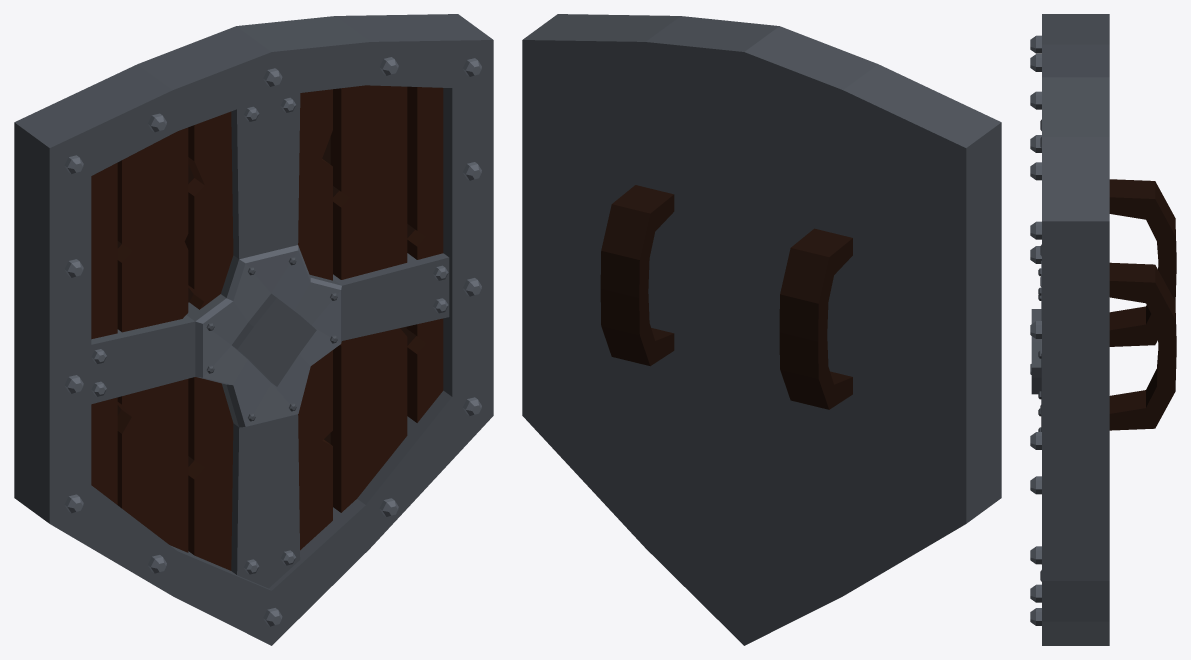
File: Shield_Heater.obj
The picture shows the model from 3 angles, left to right: view 1: azimuth 30°, elevation 25°; view 2: azimuth 150°, elevation 25°; view 3: azimuth 270°, elevation 25°; orthographic projection. The views are drawn at different scales.
Parts seen in each view (by area): view 1: Shield_Heater_Cube.009; view 2: Shield_Heater_Cube.009; view 3: Shield_Heater_Cube.009.
Boxes of the visible parts, x1,y1,x2,y2 form: Shield_Heater_Cube.009: [14, 14, 493, 645]; Shield_Heater_Cube.009: [522, 14, 1001, 645]; Shield_Heater_Cube.009: [1030, 14, 1176, 645].
Bounding box in the file's own units: 2.01 × 2.56 × 0.597.
